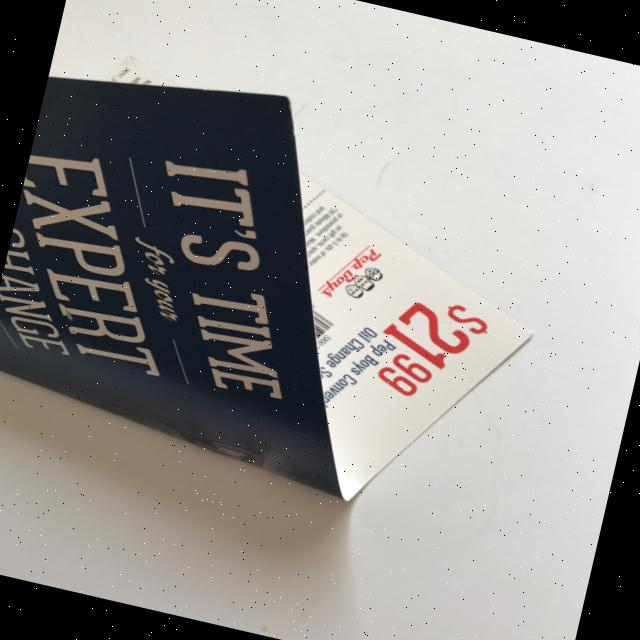paper: (0, 40, 573, 534)
